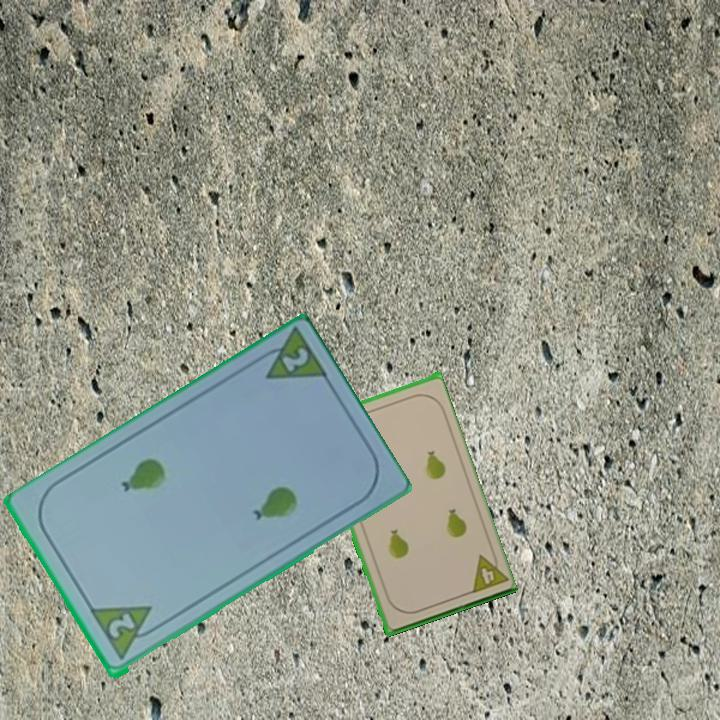2p: (87, 602, 164, 664), (249, 327, 331, 385)
4p: (466, 547, 509, 596)
